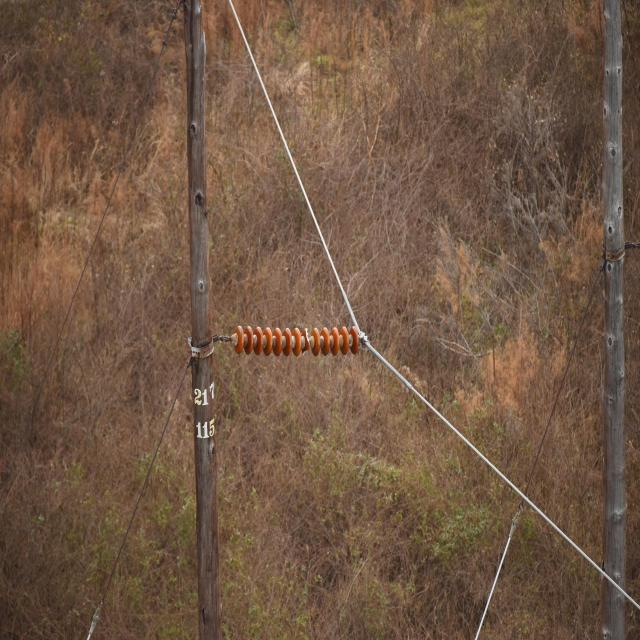broken: (303, 327, 310, 356)
insulator: (234, 325, 360, 357)
